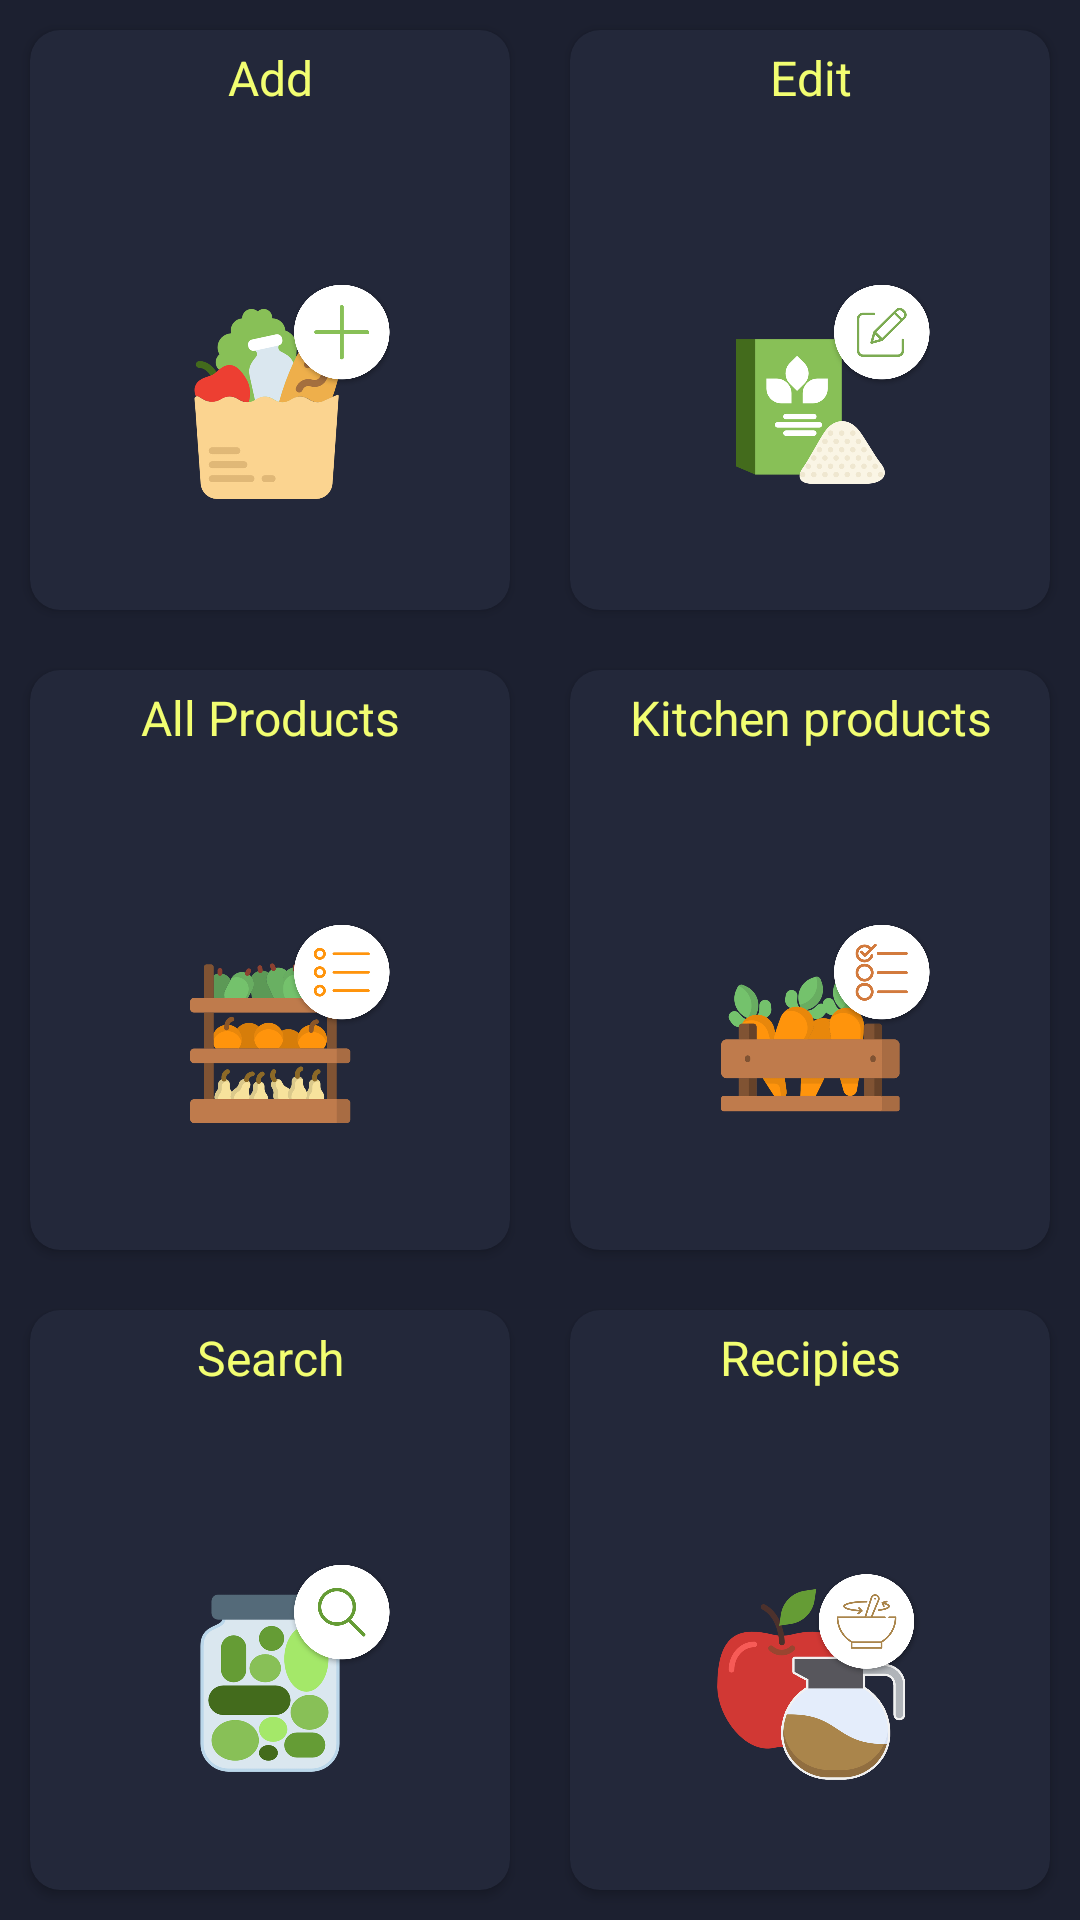

Locate icon controls on the screen. Image size 1080*1920, boxes as [left=x1, top=y1, right=x2, bottom=y2].
available: [left=721, top=925, right=930, bottom=1112]
list: [left=190, top=925, right=390, bottom=1123]
recipe: [left=717, top=1574, right=914, bottom=1780]
